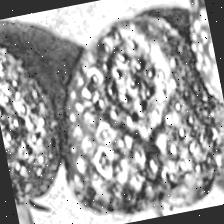Anthracnose Fruit Rot: (92, 23, 180, 130), (0, 60, 51, 184)
